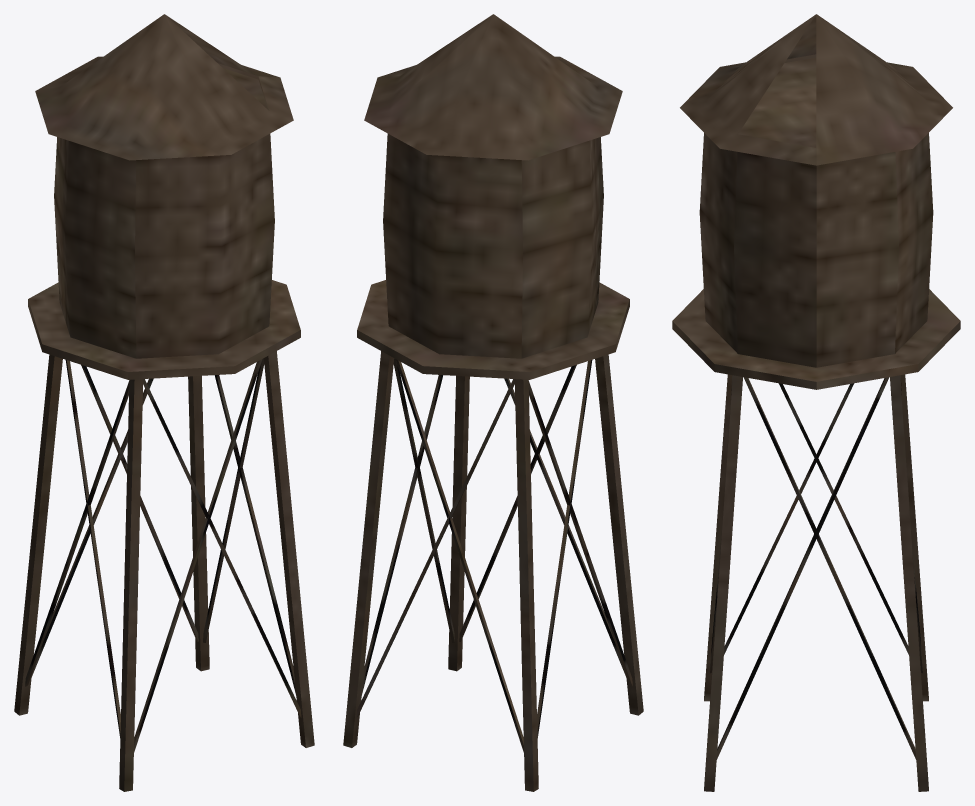
File: b_watertower_xfar.glb
The picture shows the model from 3 angles, left to right: view 1: azimuth 30°, elevation 25°; view 2: azimuth 150°, elevation 25°; view 3: azimuth 270°, elevation 25°; orthographic projection. The views are drawn at different scales.
Parts seen in each view (by area): view 1: b_watertower_xfar; view 2: b_watertower_xfar; view 3: b_watertower_xfar.
Part boxes in pixels (x1,y1,x2,y2): b_watertower_xfar: (14,14,314,791); b_watertower_xfar: (343,14,643,791); b_watertower_xfar: (672,14,960,791).
Bounding box in the file's own units: 3.9 × 10.9 × 3.9.
1 material, 1 textured.
